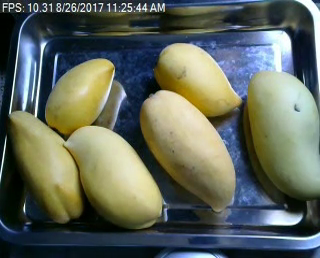Mango: (138, 89, 235, 210), (64, 124, 165, 228), (247, 72, 320, 200), (6, 110, 84, 225), (155, 41, 242, 118), (44, 58, 116, 134)
